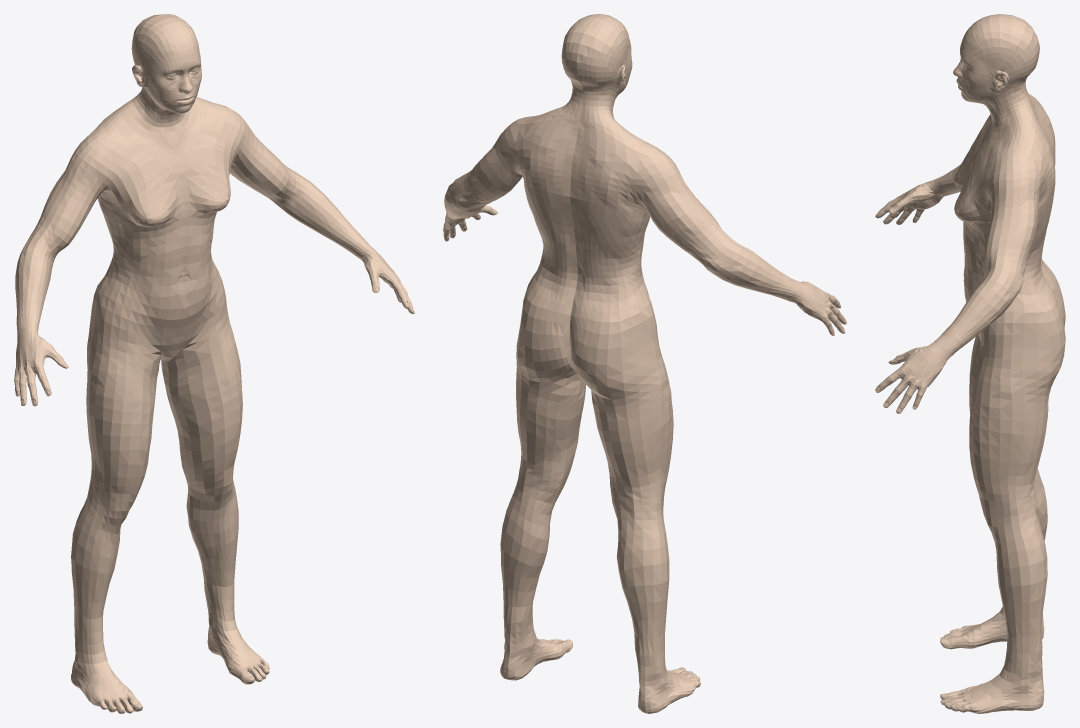
Rendered from female-mature-heavy-high.glb.
The picture shows the model from 3 angles, left to right: view 1: azimuth 30°, elevation 25°; view 2: azimuth 150°, elevation 25°; view 3: azimuth 270°, elevation 25°; orthographic projection.
Visible parts, largest first — view 1: world; view 2: world; view 3: world.
Boxes of the visible parts, <box> form: world: <box>14,14,414,713</box>; world: <box>443,14,846,713</box>; world: <box>875,14,1065,713</box>.
Size of the model in its own units: 1.14 by 1.83 by 0.4815.
